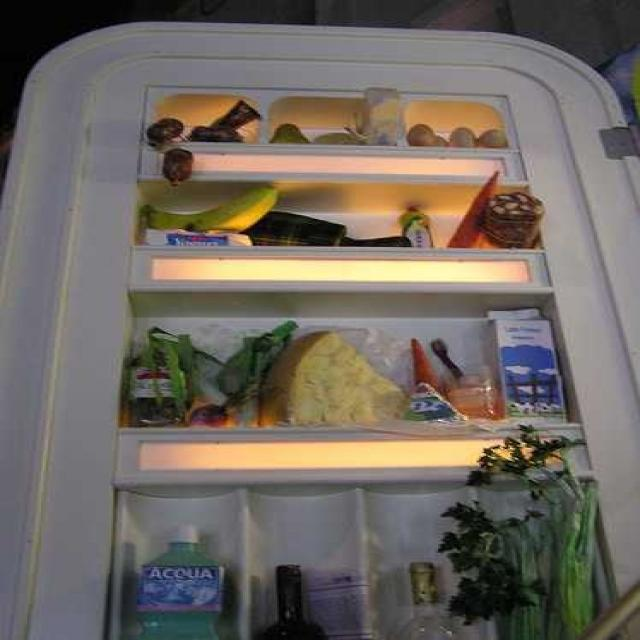refrigerator: (73, 57, 614, 640)
